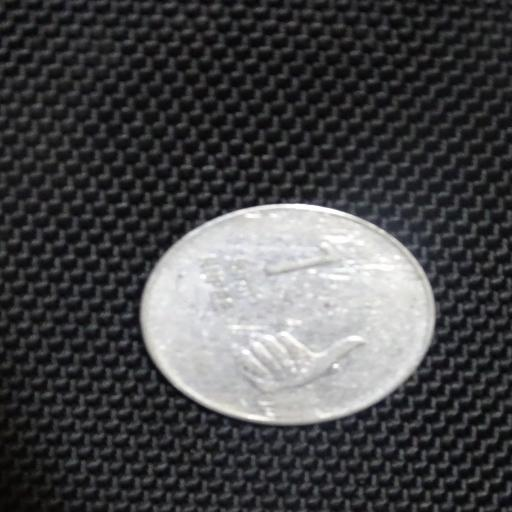rupee1: (135, 204, 440, 427)
